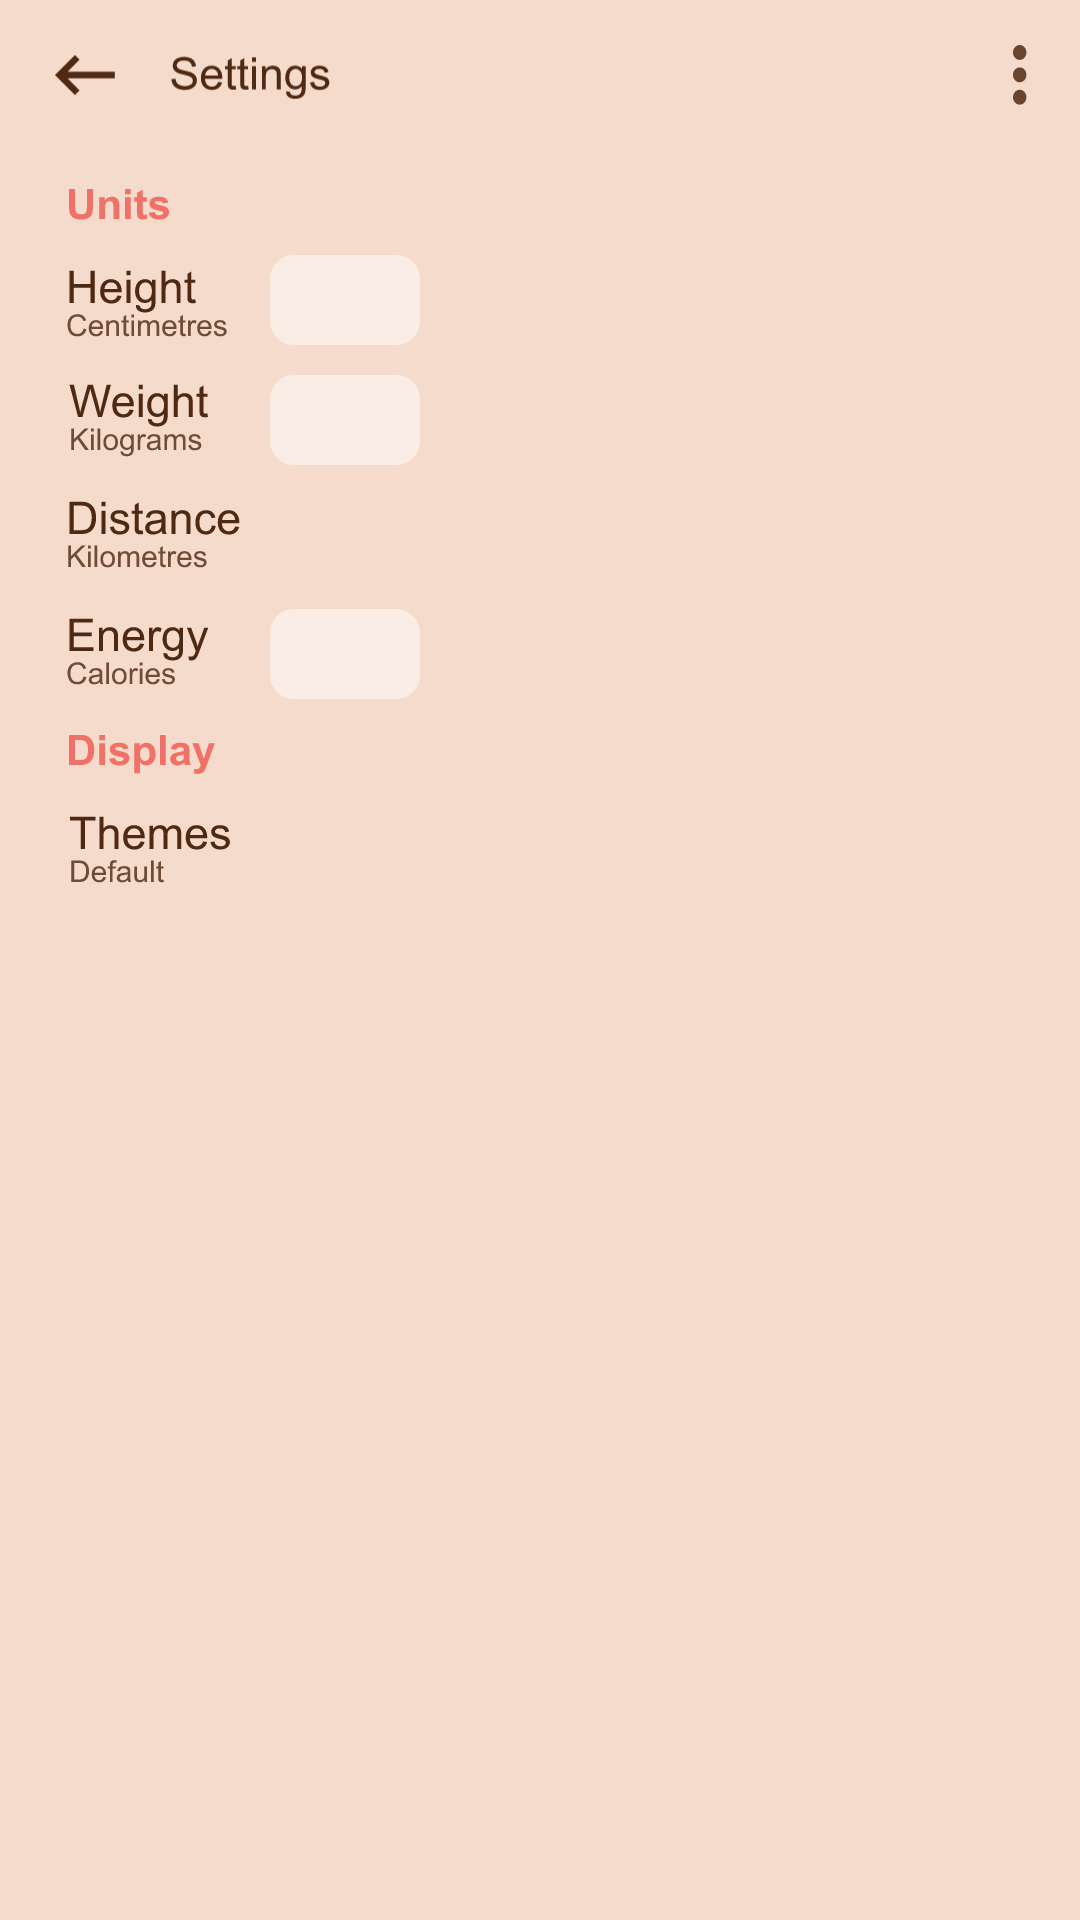

Icons on this 1080 × 1920 Android screen, each with the point to tap as point (x, y):
dots: point (1020, 75)
